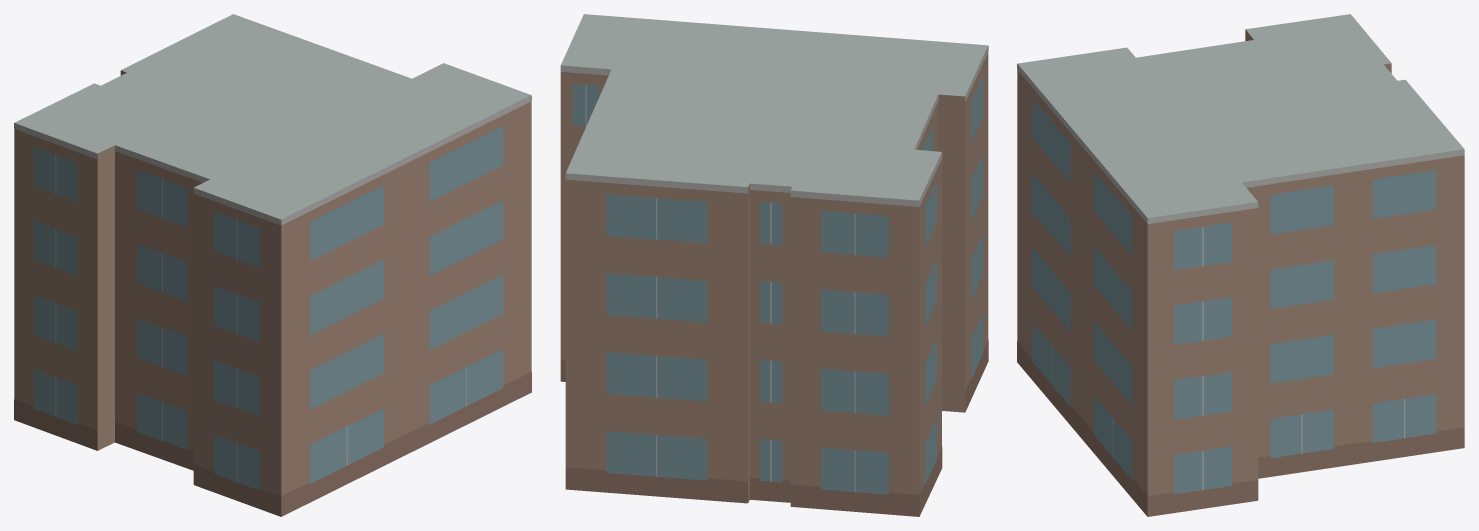
File: survey-upis-32774350.glb
3 renders of one model, left to right at view 1: azimuth 30°, elevation 25°; view 2: azimuth 150°, elevation 25°; view 3: azimuth 270°, elevation 25°, orthographic. The views are drawn at different scales.
Parts seen in each view (by area): view 1: survey-upis-32774350.tmp; view 2: survey-upis-32774350.tmp; view 3: survey-upis-32774350.tmp.
Boxes of the visible parts, x1,y1,x2,y2 form: survey-upis-32774350.tmp: (14,14,531,516); survey-upis-32774350.tmp: (560,14,988,516); survey-upis-32774350.tmp: (1017,14,1464,516).
Bounding box in the file's own units: 17.9 × 12.2 × 16.57.
